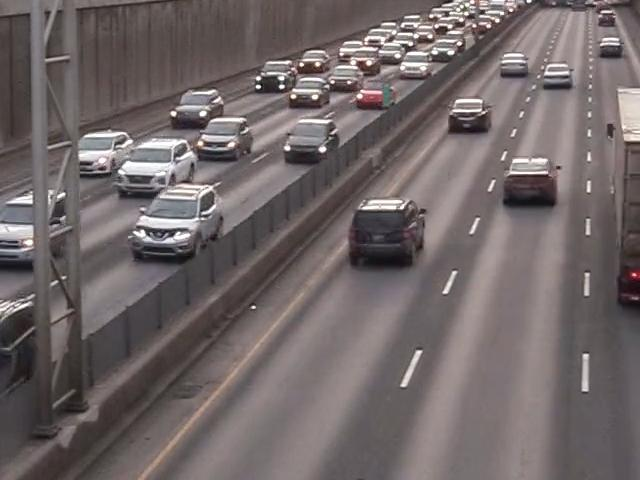car: (126, 178, 231, 260), (0, 291, 53, 434), (0, 176, 80, 269), (348, 192, 433, 278), (116, 136, 197, 200), (500, 148, 568, 218), (273, 109, 339, 162), (190, 109, 257, 160), (170, 86, 226, 129), (487, 37, 533, 84), (448, 93, 494, 131), (254, 55, 294, 97), (530, 61, 573, 98), (288, 76, 331, 108), (345, 78, 391, 107), (294, 41, 335, 73), (399, 52, 437, 81), (325, 63, 364, 90), (345, 48, 379, 74), (589, 6, 622, 27), (594, 33, 620, 59), (335, 35, 360, 62), (398, 10, 424, 33), (363, 24, 385, 46), (433, 14, 456, 31), (413, 25, 436, 42), (390, 31, 412, 47), (381, 20, 400, 34)
truck: (600, 55, 640, 330)
